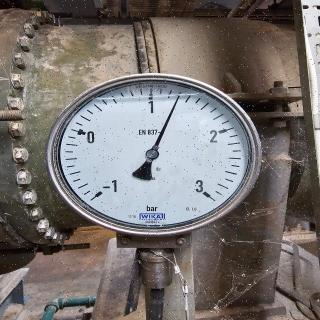gauge: (46, 73, 270, 243), (85, 176, 119, 208), (192, 180, 218, 204), (145, 147, 159, 161), (174, 93, 182, 103)
